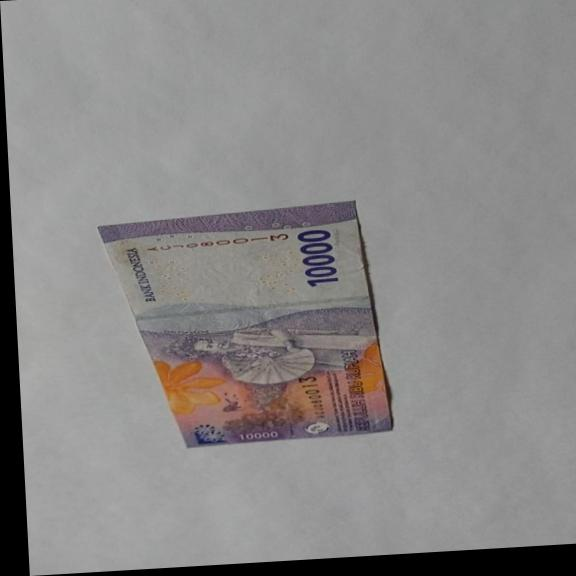Kertas: (94, 198, 395, 453), (295, 227, 340, 288)
